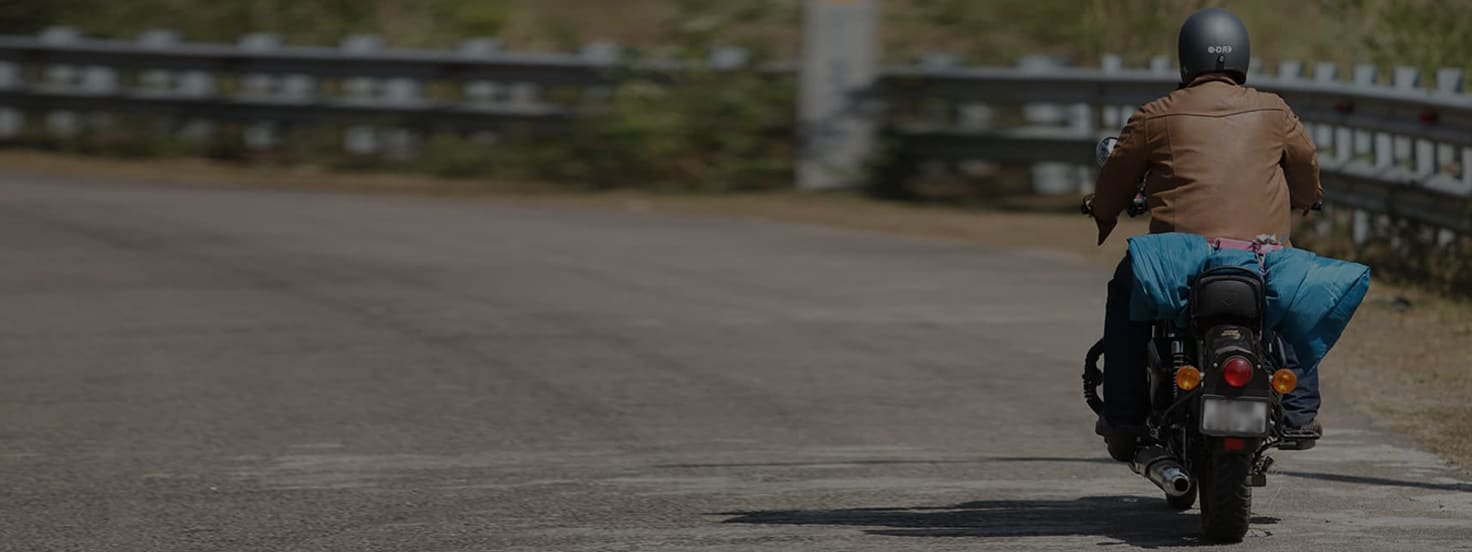Bike: (1078, 135, 1381, 538)
